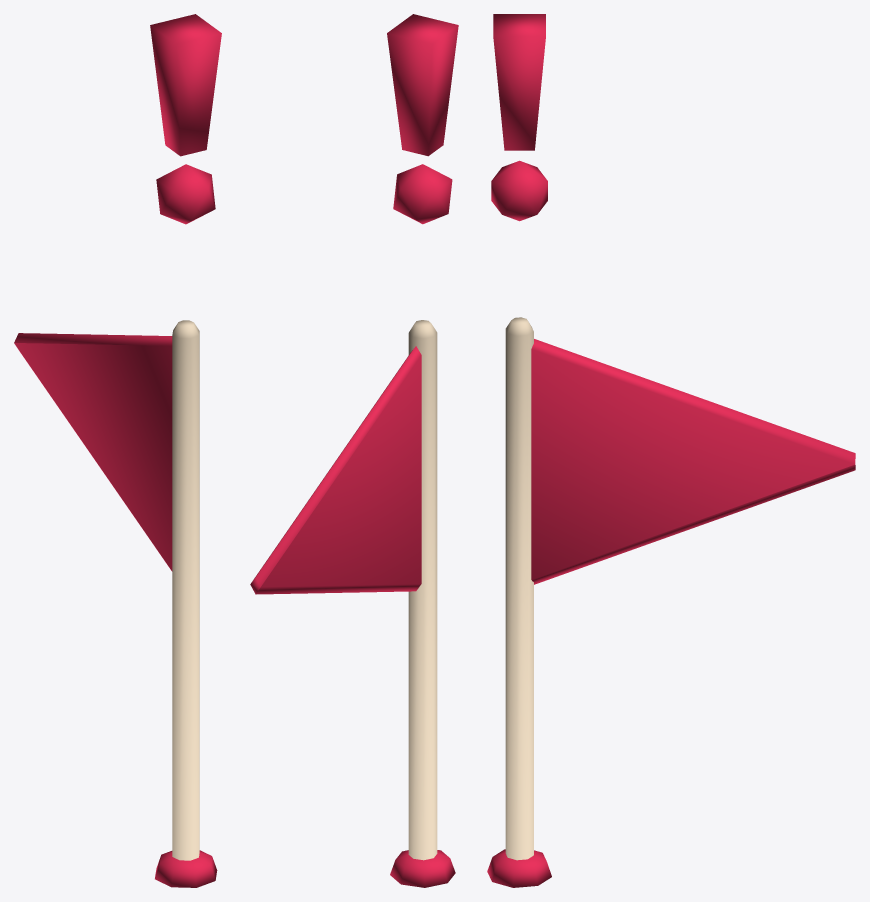
File: house_flag_attention_a01.glb
The picture shows the model from 3 angles, left to right: view 1: azimuth 30°, elevation 25°; view 2: azimuth 150°, elevation 25°; view 3: azimuth 270°, elevation 25°; orthographic projection.
Parts seen in each view (by area): view 1: Cylinder.055; view 2: Cylinder.055; view 3: Cylinder.055.
Part boxes in pixels (box(x1,y1,x2,y2)): Cylinder.055: box(14, 14, 221, 887); Cylinder.055: box(250, 14, 458, 887); Cylinder.055: box(487, 14, 855, 887).
Size of the model in its own units: 0.3442 by 4.96 by 1.95.
